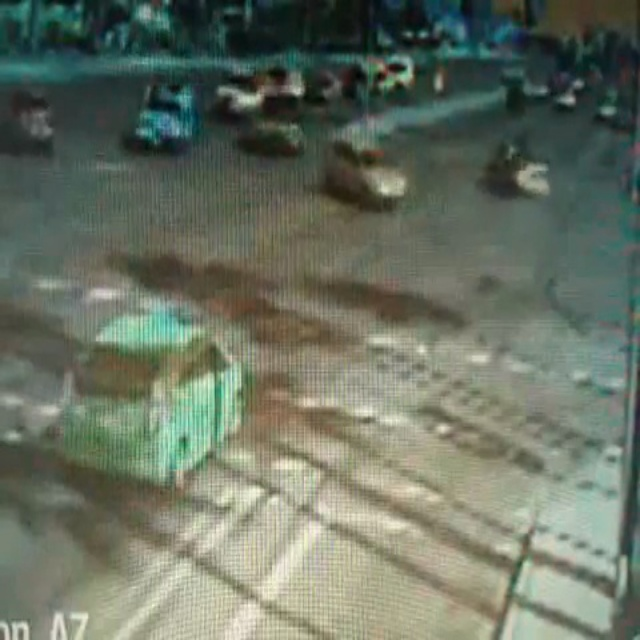acc: (473, 135, 562, 206)
